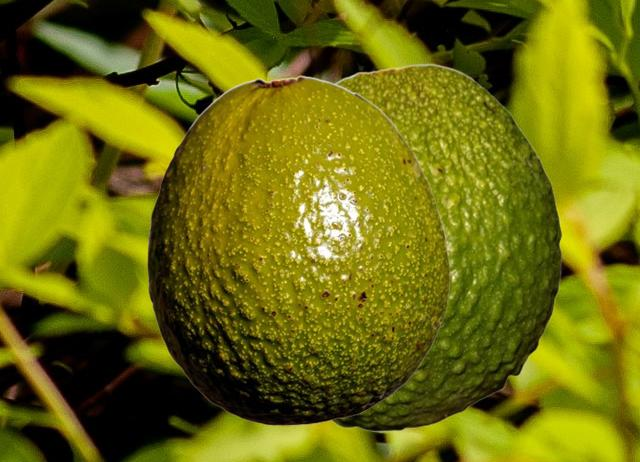avocado: (147, 75, 449, 424), (329, 63, 561, 430)
